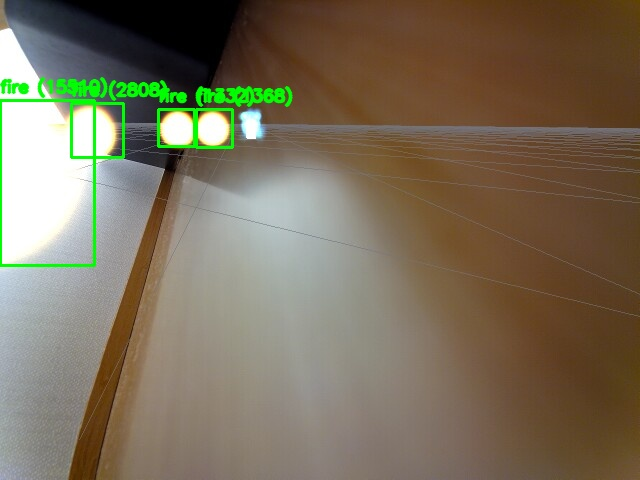fire: (0, 100, 94, 265), (71, 103, 123, 157), (196, 109, 232, 147), (158, 109, 194, 146)
